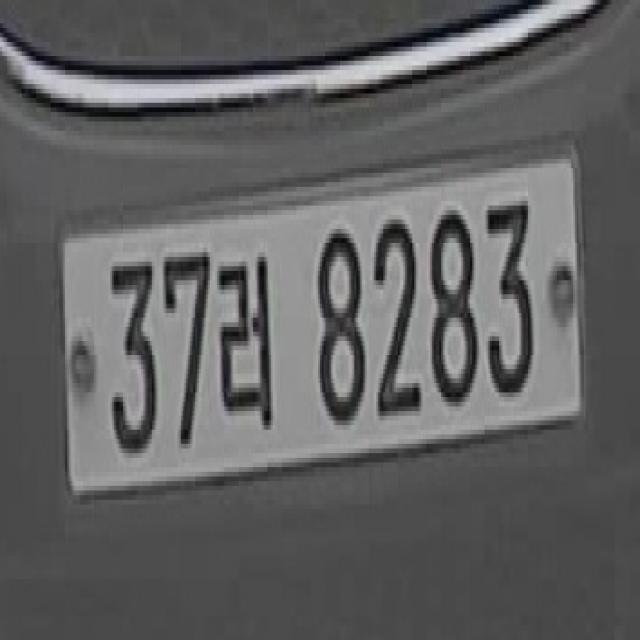2: (372, 215, 420, 416)
3: (109, 257, 159, 458), (485, 196, 535, 397)
7: (161, 243, 211, 448)
8: (427, 196, 481, 411), (314, 220, 368, 420)
leo: (213, 248, 275, 434)
license_plate: (54, 145, 584, 528)
